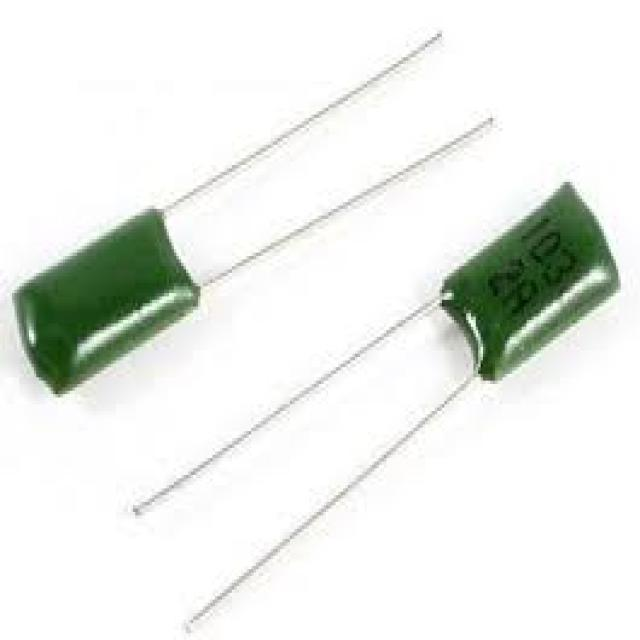Capacitor: (440, 182, 621, 384), (14, 209, 203, 397)
